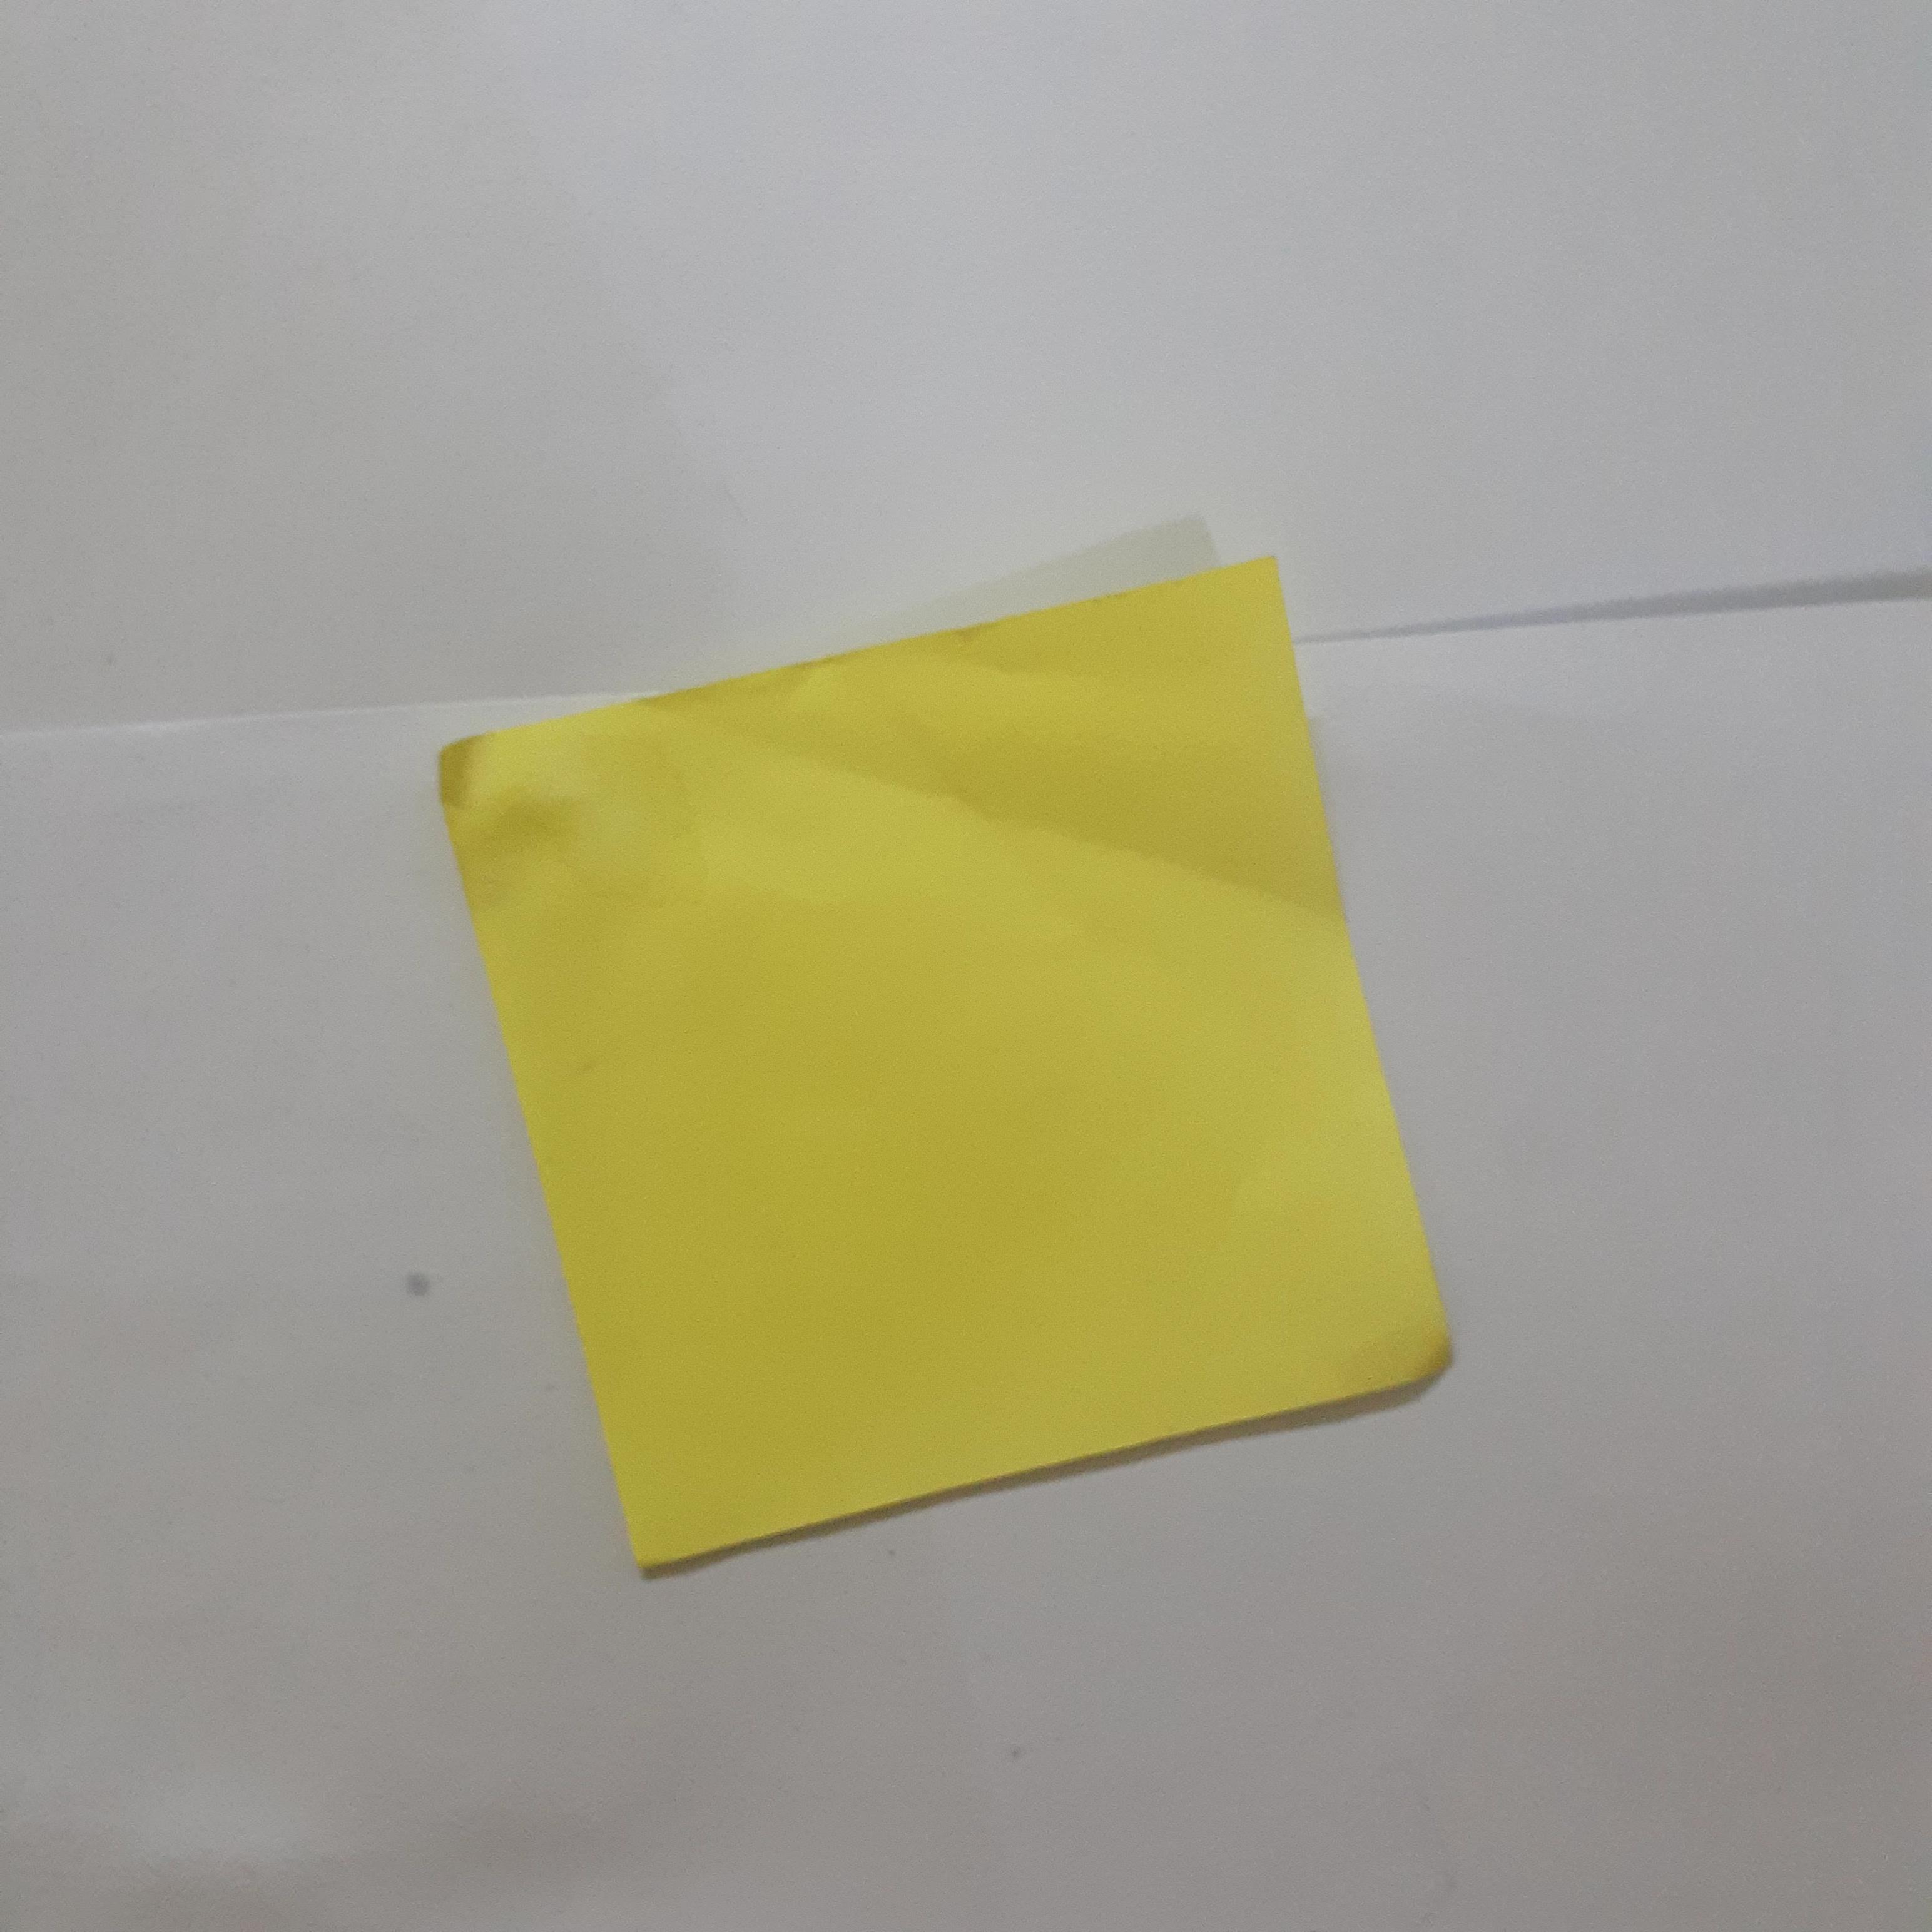Paper: (340, 538, 1566, 1700)
